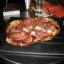pizza: (6, 18, 59, 44)
